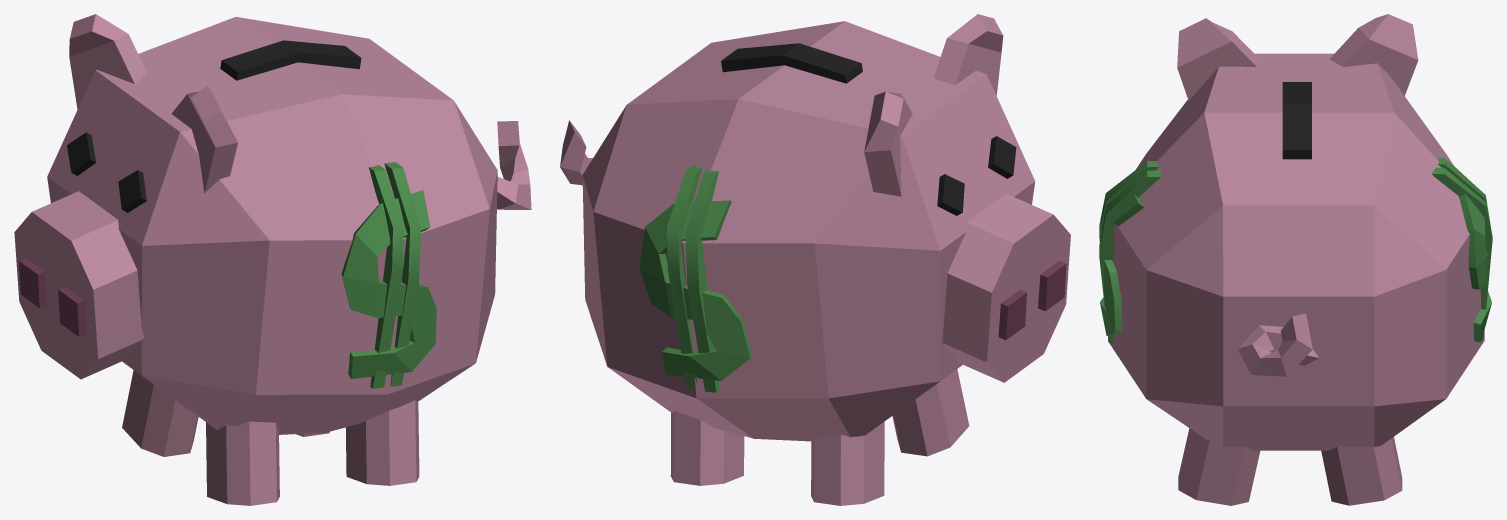
Rendered from piggy (2).fbx.
The picture shows the model from 3 angles, left to right: view 1: azimuth 30°, elevation 25°; view 2: azimuth 150°, elevation 25°; view 3: azimuth 270°, elevation 25°; orthographic projection. The views are drawn at different scales.
Visible parts, largest first — view 1: polySurface25; view 2: polySurface25; view 3: polySurface25.
Part boxes in pixels (x1,y1,x2,y2): polySurface25: (14, 14, 531, 505); polySurface25: (560, 14, 1070, 505); polySurface25: (1099, 14, 1492, 505).
Bounding box in the file's own units: 0.634 × 0.5727 × 0.5107.
